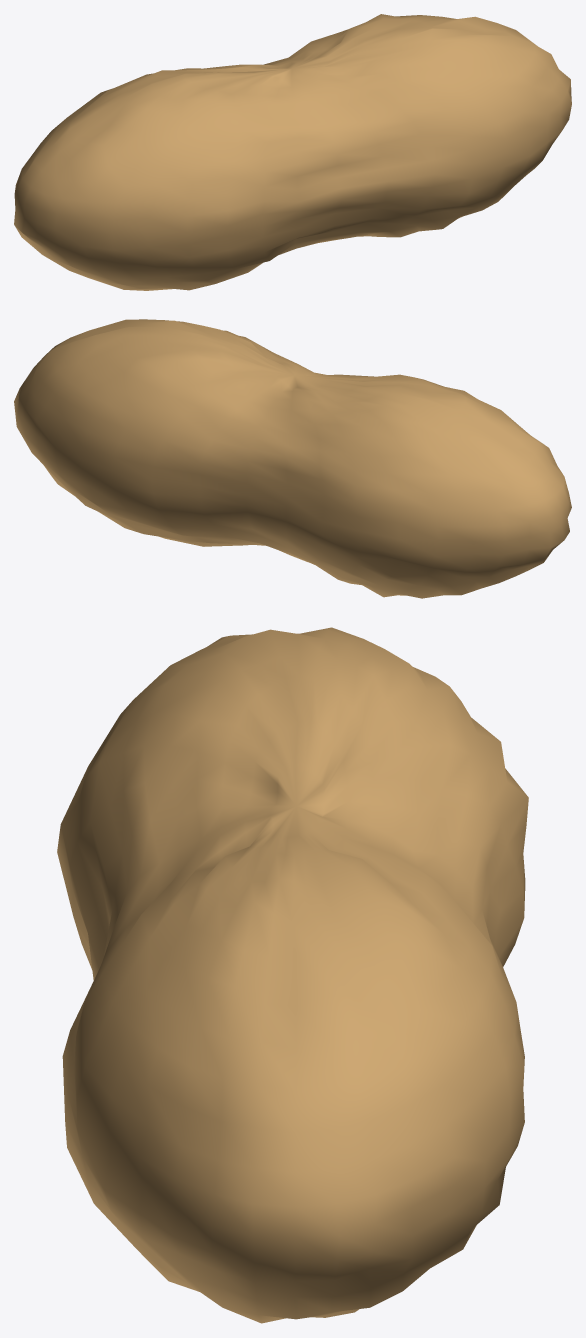
File: items-peanut.glb
The picture shows the model from 3 angles, top to bottom: view 1: azimuth 30°, elevation 25°; view 2: azimuth 150°, elevation 25°; view 3: azimuth 270°, elevation 25°; orthographic projection. The views are drawn at different scales.
Parts seen in each view (by area): view 1: Peanut__Shell; view 2: Peanut__Shell; view 3: Peanut__Shell.
Part boxes in pixels (<box>): Peanut__Shell: <box>14,14,571,290</box>; Peanut__Shell: <box>14,319,571,598</box>; Peanut__Shell: <box>57,627,528,1323</box>.
Bounding box in the file's own units: 5.52 × 1.93 × 2.09.
